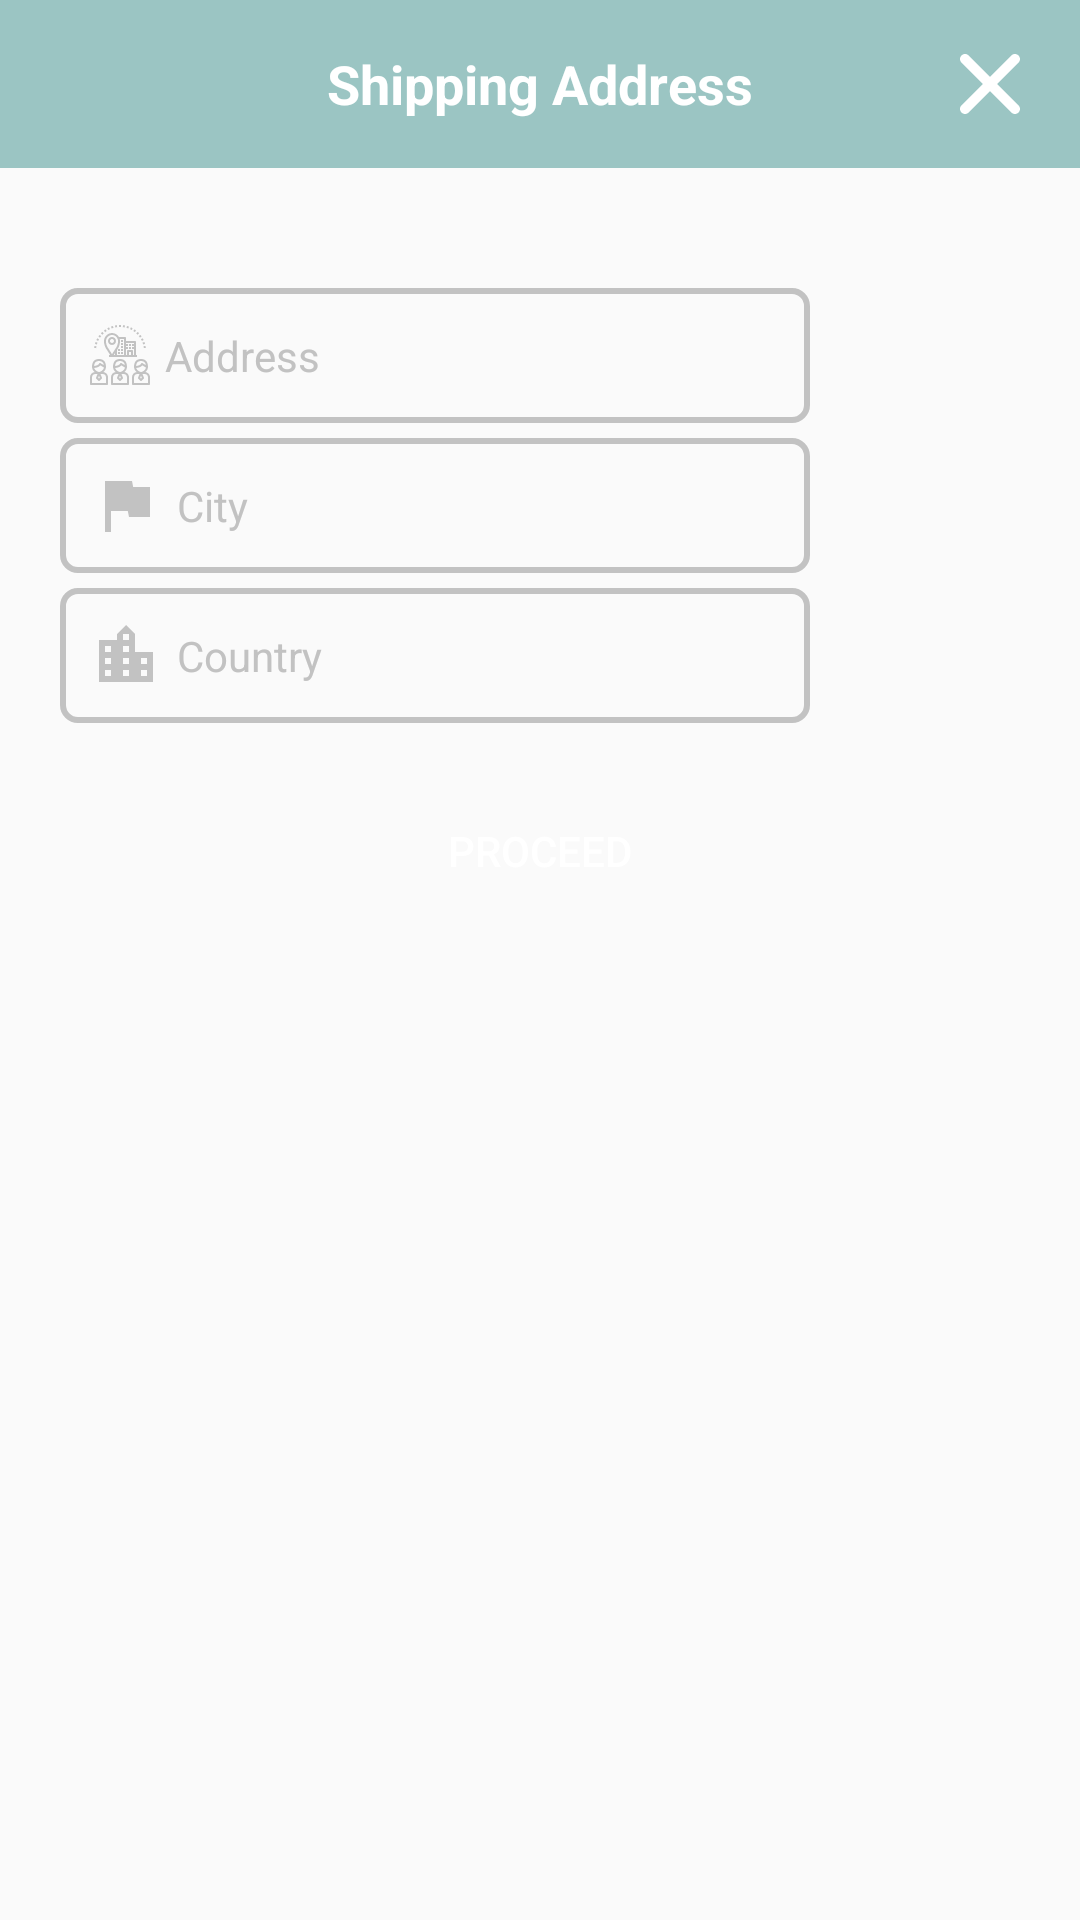

Screen size 1080x1920. Icon name, then its box in pixels as (x1, y1, x2, y2):
close: (960, 54, 1020, 114)
